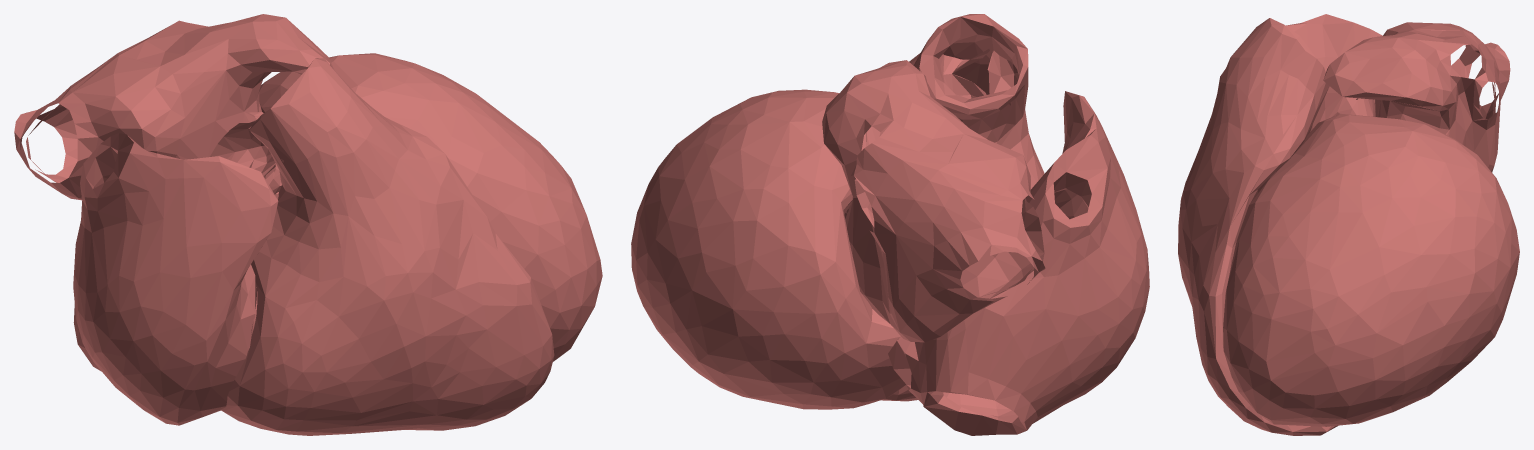
File: VH_F_Heart_0.1.glb
The picture shows the model from 3 angles, left to right: view 1: azimuth 30°, elevation 25°; view 2: azimuth 150°, elevation 25°; view 3: azimuth 270°, elevation 25°; orthographic projection. The views are drawn at different scales.
Visible parts, largest first — view 1: VH_F_right_ventricle, VH_F_right_cardiac_atrium, VH_F_left_ventricle, VH_F_left_cardiac_atrium, VH_F_aortic_valve; view 2: VH_F_left_ventricle, VH_F_right_cardiac_atrium, VH_F_left_cardiac_atrium, VH_F_right_ventricle, VH_F_pulmonary_valve; view 3: VH_F_left_ventricle, VH_F_right_ventricle, VH_F_left_cardiac_atrium, VH_F_right_cardiac_atrium, VH_F_aortic_valve.
Part boxes in pixels (x1,y1,x2,y2): VH_F_right_ventricle: (221, 58, 554, 435); VH_F_right_cardiac_atrium: (73, 133, 278, 425); VH_F_left_ventricle: (259, 53, 602, 361); VH_F_left_cardiac_atrium: (14, 14, 334, 200); VH_F_aortic_valve: (210, 112, 281, 199); VH_F_left_ventricle: (631, 89, 906, 409); VH_F_right_cardiac_atrium: (888, 91, 1149, 435); VH_F_left_cardiac_atrium: (822, 60, 1045, 342); VH_F_right_ventricle: (881, 14, 1044, 401); VH_F_pulmonary_valve: (939, 49, 1025, 105); VH_F_left_ventricle: (1223, 113, 1519, 426); VH_F_right_ventricle: (1178, 18, 1337, 435); VH_F_left_cardiac_atrium: (1323, 22, 1510, 172); VH_F_right_cardiac_atrium: (1217, 14, 1382, 102); VH_F_aortic_valve: (1310, 86, 1375, 131).
Bounding box in the file's own units: 0.1431 × 0.1102 × 0.1018.
